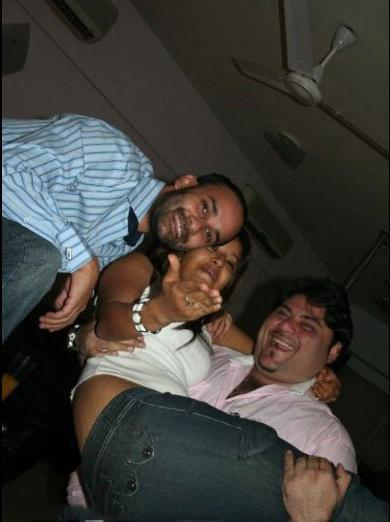Drunk: (265, 299, 332, 379), (157, 190, 245, 245), (190, 242, 241, 289)
